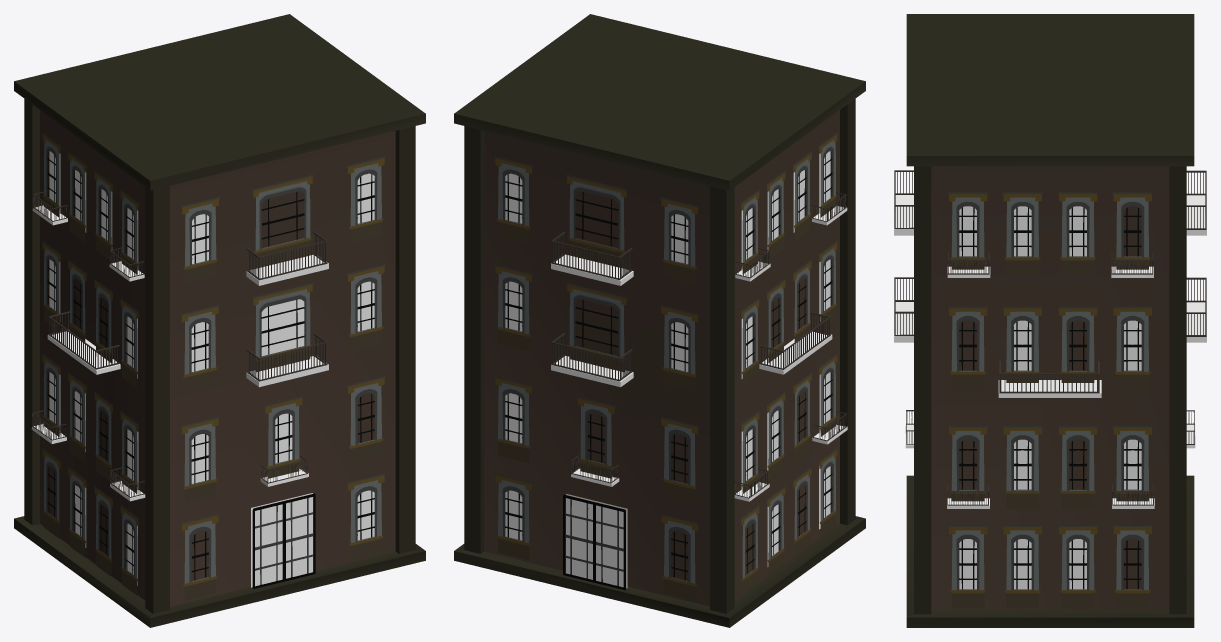
The model's file is Building(5).fbx.
3 renders of one model, left to right at view 1: azimuth 30°, elevation 25°; view 2: azimuth 150°, elevation 25°; view 3: azimuth 270°, elevation 25°, orthographic. The views are drawn at different scales.
Visible parts, largest first — view 1: Building(5); view 2: Building(5); view 3: Building(5).
Boxes of the visible parts, x1,y1,x2,y2 form: Building(5): (14,14,425,627); Building(5): (454,14,865,627); Building(5): (894,14,1206,627).
Size of the model in its own units: 8.09 by 11.62 by 6.98.
